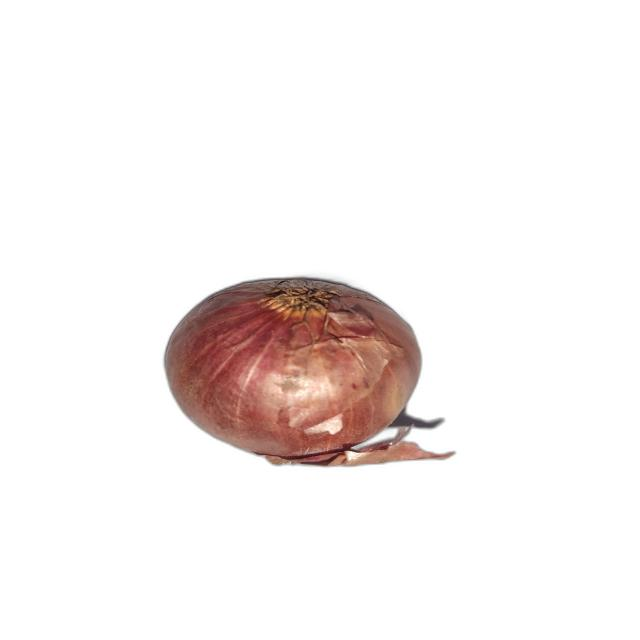onion: (163, 277, 457, 466)
